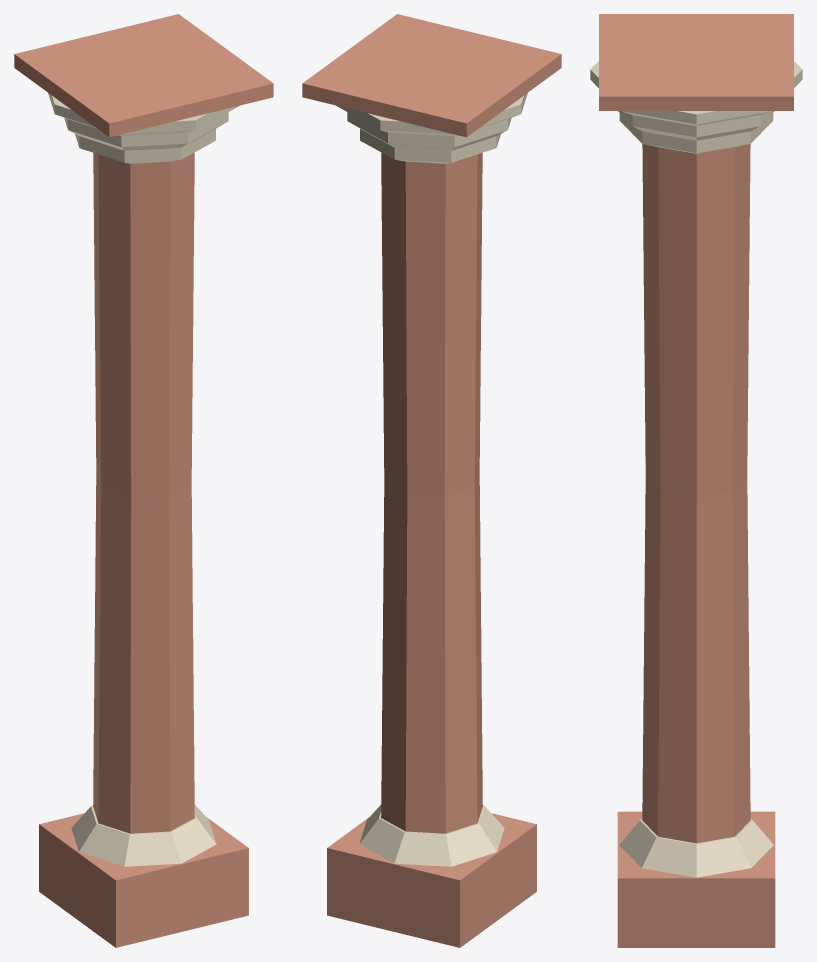
Rendered from kit_column.glb.
3 renders of one model, left to right at view 1: azimuth 30°, elevation 25°; view 2: azimuth 150°, elevation 25°; view 3: azimuth 270°, elevation 25°, orthographic. The views are drawn at different scales.
Visible parts, largest first — view 1: kit_column; view 2: kit_column; view 3: kit_column.
Part boxes in pixels (box(x1,y1,x2,y2)): kit_column: box(14, 14, 273, 947); kit_column: box(302, 14, 561, 947); kit_column: box(590, 14, 802, 947).
Bounding box in the file's own units: 0.9398 × 4.2 × 0.9398.
